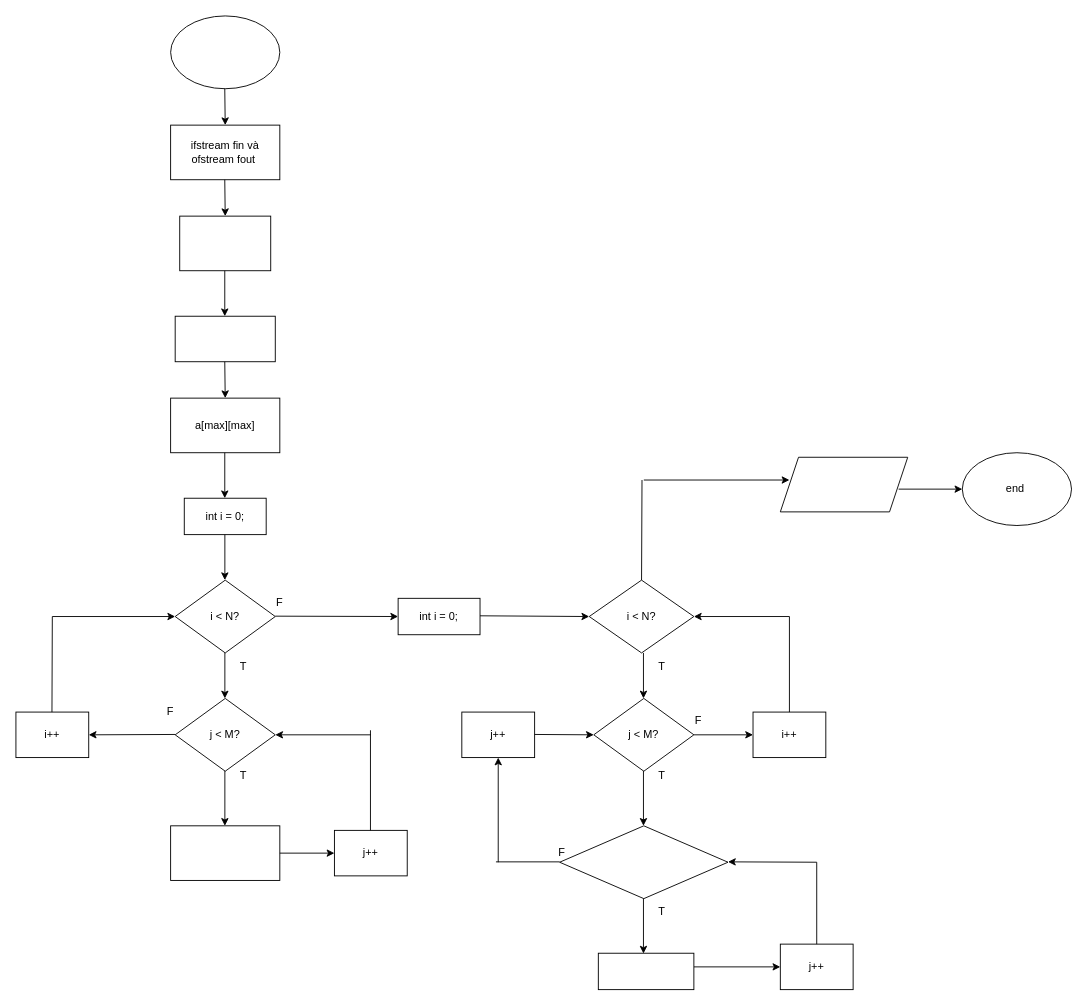
The diagram is 1087 pixels wide and 1006 high, and some of its shapes have lost their labels. Here are the shapes that lost their labels. From the top down, the box of each, then its label:
(170, 15, 280, 89): start
(179, 215, 271, 271): int N , M
(174, 315, 275, 362): đọc N và M
(779, 456, 908, 512): Xuất dem ra file
(170, 825, 280, 880): đọc a[i][j]]
(559, 825, 728, 899): lon(a, i , j , N , M ) == true ?
(597, 952, 694, 990): dem++
